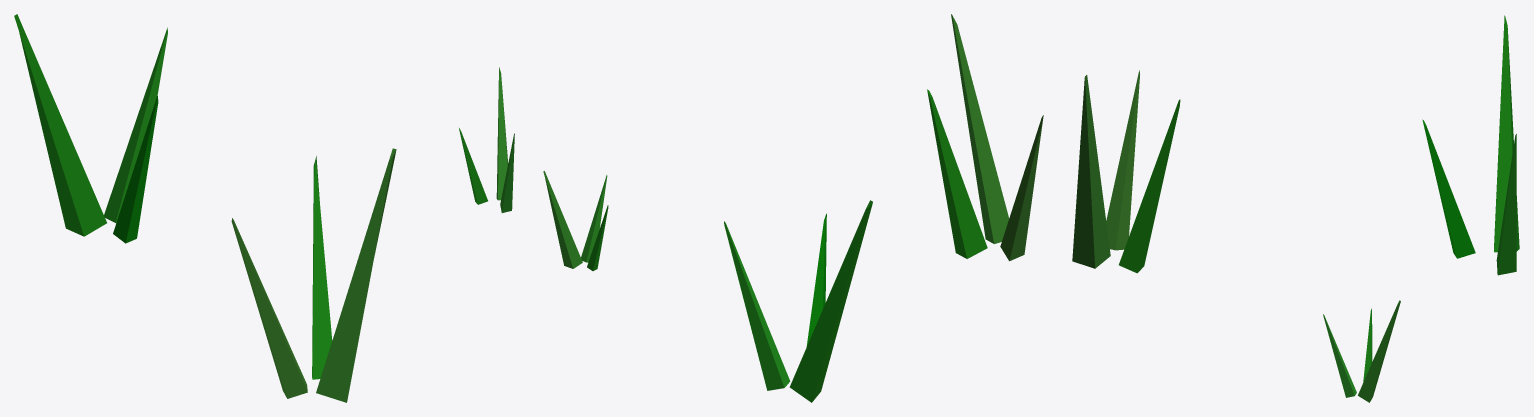
Rendered from Grass.fbx.
3 renders of one model, left to right at view 1: azimuth 30°, elevation 25°; view 2: azimuth 150°, elevation 25°; view 3: azimuth 270°, elevation 25°, orthographic. The views are drawn at different scales.
Parts seen in each view (by area): view 1: Cube, Cube.008, Cube.006, Cube.007, Cube.002, Cube.001, Cube.005, Cube.004, Cube.003; view 2: Cube, Cube.008, Cube.007, Cube.002, Cube.006, Cube.005, Cube.001, Cube.003, Cube.004; view 3: Cube.008, Cube.006, Cube.007, Cube, Cube.001, Cube.002, Cube.005, Cube.003.
Boxes of the visible parts, left/top/right/bottom form: Cube: left=14, top=14, right=106, bottom=236; Cube.008: left=316, top=148, right=396, bottom=402; Cube.006: left=231, top=218, right=307, bottom=398; Cube.007: left=312, top=156, right=332, bottom=379; Cube.002: left=104, top=27, right=167, bottom=222; Cube.001: left=113, top=96, right=158, bottom=243; Cube.005: left=496, top=67, right=508, bottom=200; Cube.004: left=459, top=128, right=487, bottom=204; Cube.003: left=500, top=133, right=514, bottom=212; Cube: left=789, top=200, right=872, bottom=402; Cube.008: left=951, top=14, right=1009, bottom=243; Cube.007: left=927, top=89, right=987, bottom=258; Cube.002: left=724, top=221, right=790, bottom=390; Cube.006: left=1000, top=115, right=1043, bottom=261; Cube.005: left=543, top=171, right=582, bottom=268; Cube.001: left=806, top=213, right=826, bottom=346; Cube.003: left=581, top=175, right=607, bottom=262; Cube.004: left=587, top=205, right=608, bottom=270; Cube.008: left=1072, top=75, right=1110, bottom=268; Cube.006: left=1106, top=70, right=1139, bottom=250; Cube.007: left=1119, top=99, right=1180, bottom=273; Cube: left=1494, top=15, right=1519, bottom=252; Cube.001: left=1422, top=119, right=1475, bottom=258; Cube.002: left=1496, top=134, right=1516, bottom=275; Cube.005: left=1358, top=300, right=1400, bottom=402; Cube.003: left=1323, top=314, right=1356, bottom=397.
Bounding box in the file's own units: 293 × 156 × 298.
